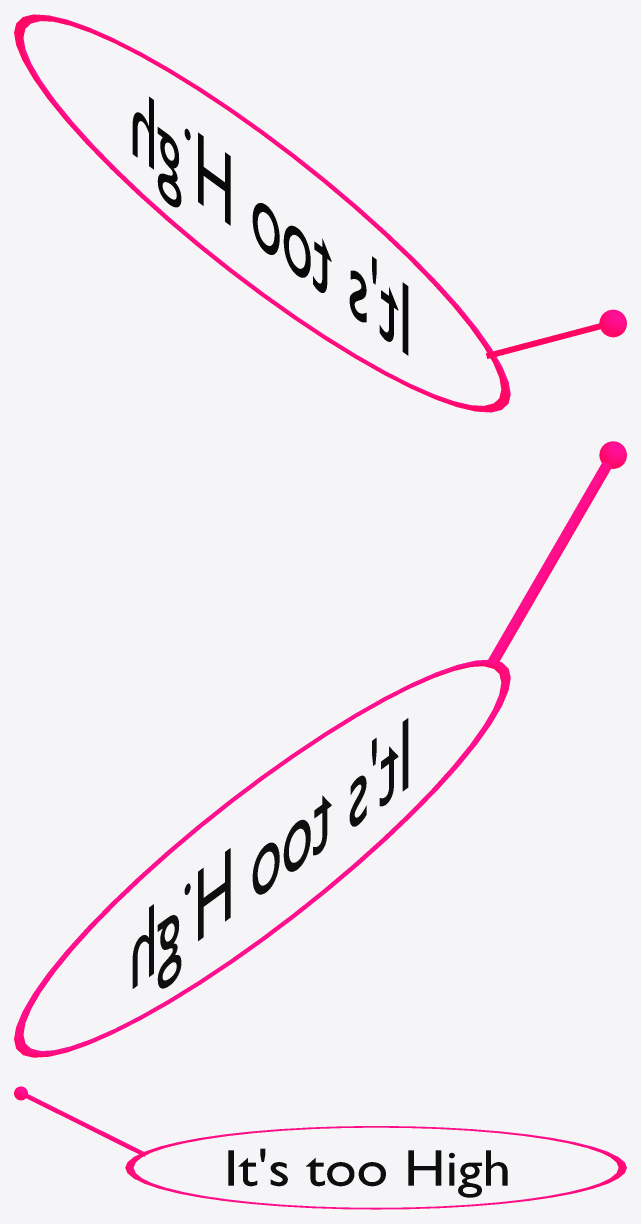
The model's file is Height.glb.
3 renders of one model, top to bottom at view 1: azimuth 30°, elevation 25°; view 2: azimuth 150°, elevation 25°; view 3: azimuth 270°, elevation 25°, orthographic. The views are drawn at different scales.
Parts seen in each view (by area): view 1: Torus, Text; view 2: Torus, Text; view 3: Torus, Text.
Part boxes in pixels (bbox=[...]): Torus: bbox=[14, 14, 626, 412]; Text: bbox=[132, 96, 408, 355]; Torus: bbox=[14, 441, 626, 1057]; Text: bbox=[132, 718, 408, 988]; Torus: bbox=[14, 1086, 626, 1209]; Text: bbox=[228, 1148, 507, 1197].
Size of the model in its own units: 0.1943 by 1.87 by 8.5.
